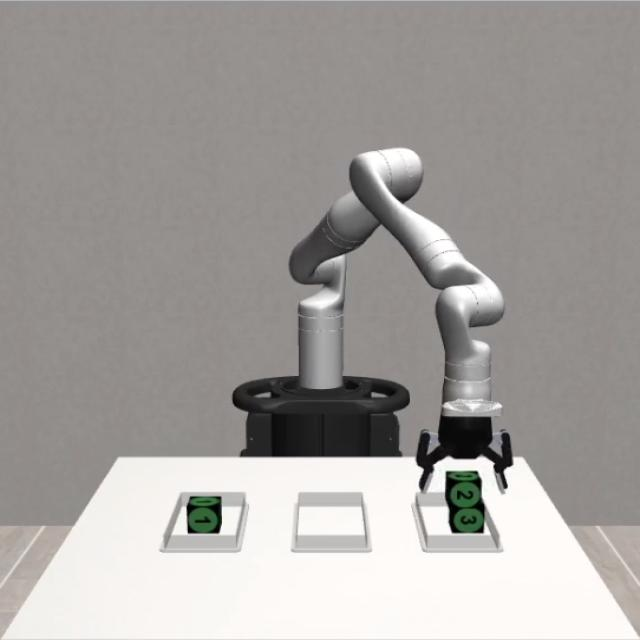cube1: (187, 496, 222, 532)
cube2: (447, 471, 480, 509)
cube3: (453, 502, 486, 532)
